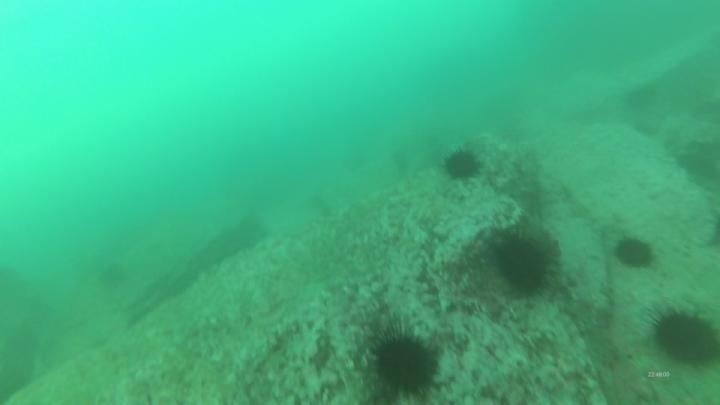echinus: (366, 323, 443, 402), (486, 226, 560, 299), (647, 304, 720, 370), (612, 234, 656, 271), (441, 146, 484, 183), (622, 81, 660, 113), (96, 260, 129, 291)
